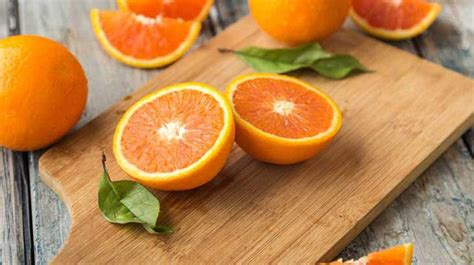orange: (1, 34, 90, 155)
